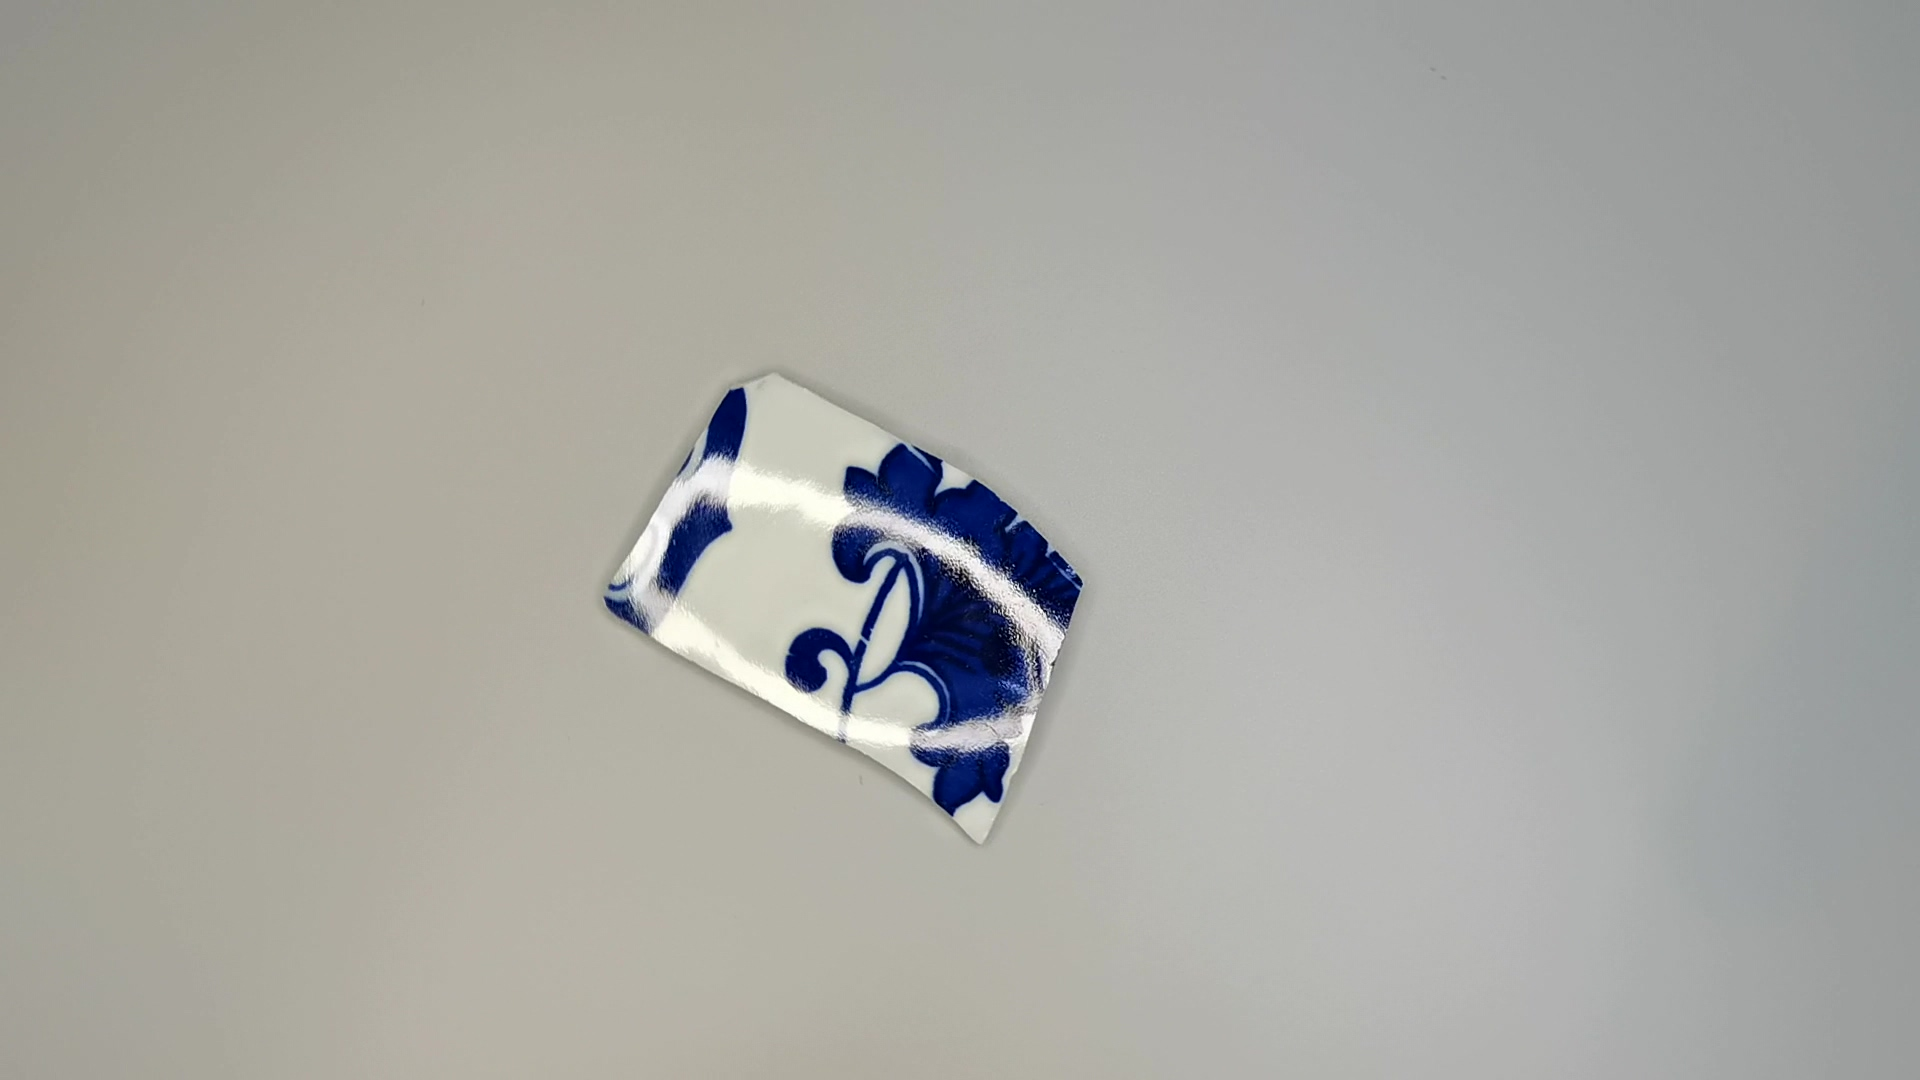ceramic: (597, 365, 1097, 837)
